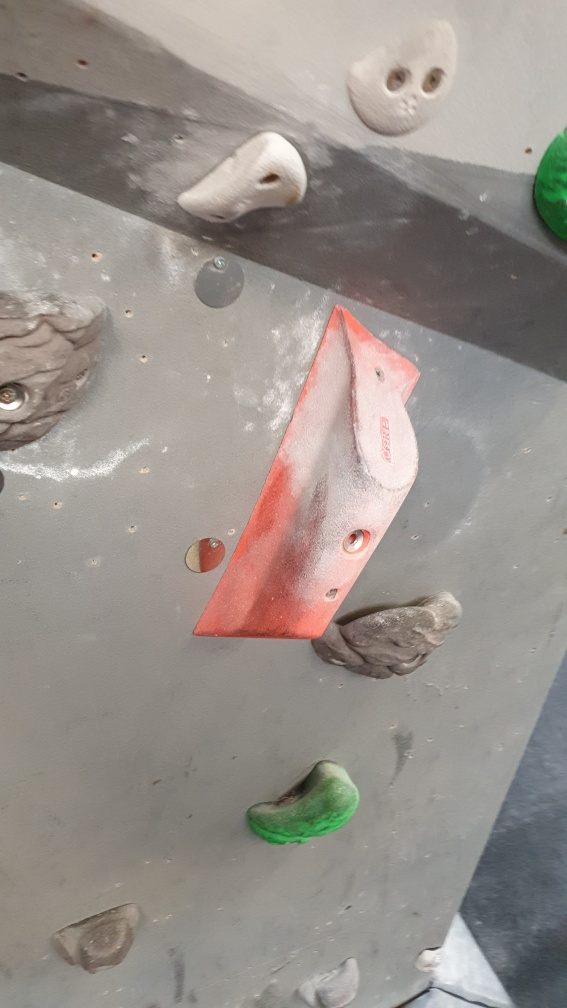Hand Start: (191, 251, 244, 310), (184, 532, 228, 574)
Jug: (1, 291, 106, 449), (311, 586, 465, 682), (238, 754, 363, 848), (294, 957, 363, 1007)
Pinch: (185, 299, 421, 647)
